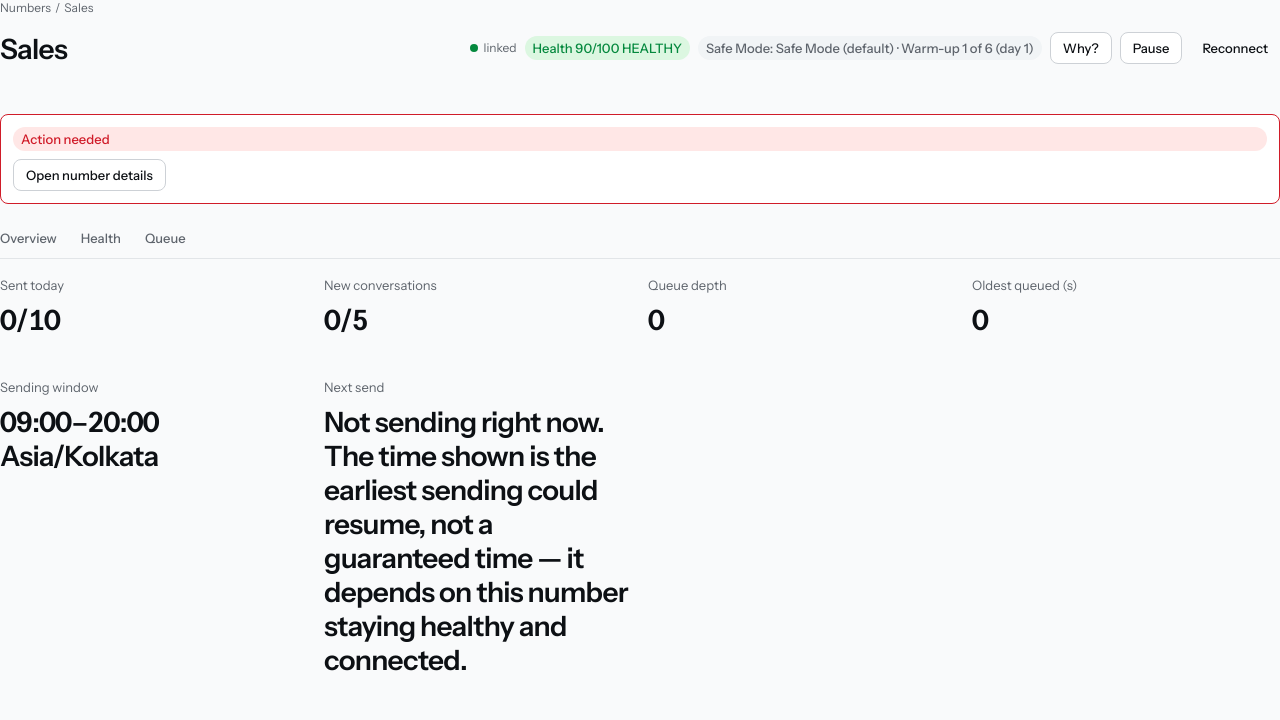
Test case: InstanceDetailPage › needs_action_open_details_opens_the_why_drawer
Click the button with test id "needs-action-open-details" at coordinates (89, 175), box [13,159,166,191]
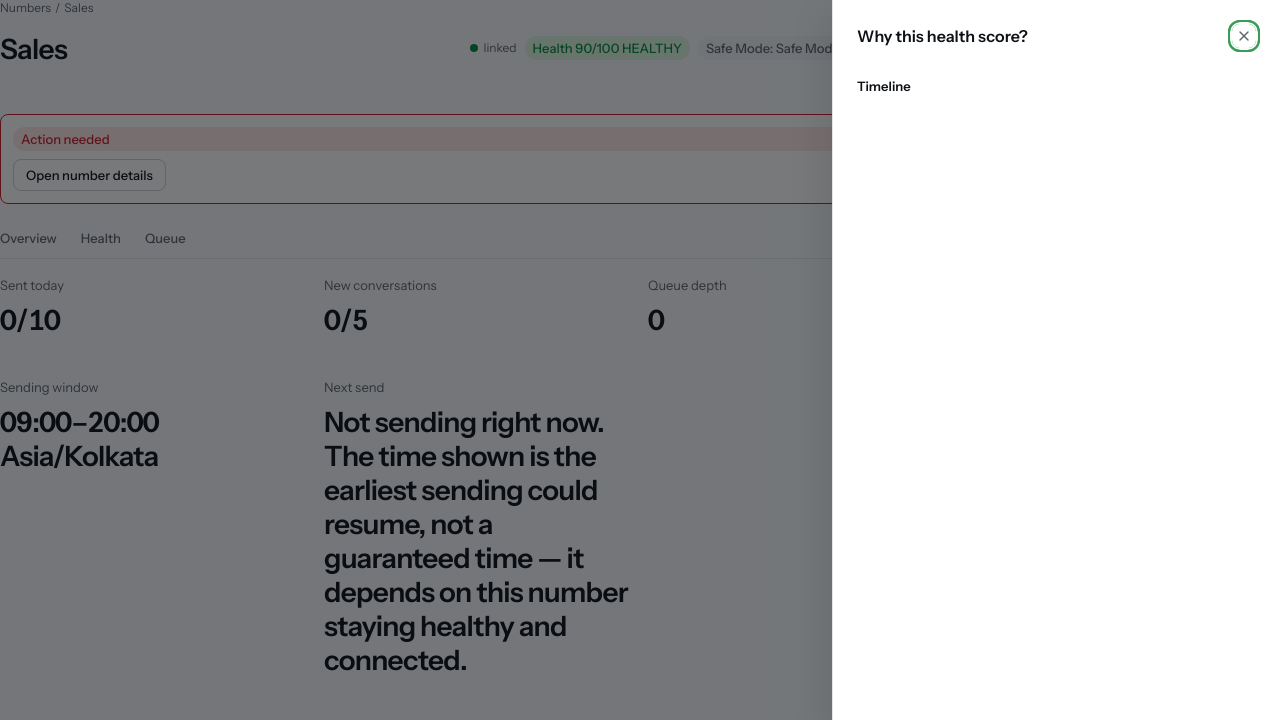
expect the heading "Why this health score?" is shown: met, box [857,24,1028,48]
